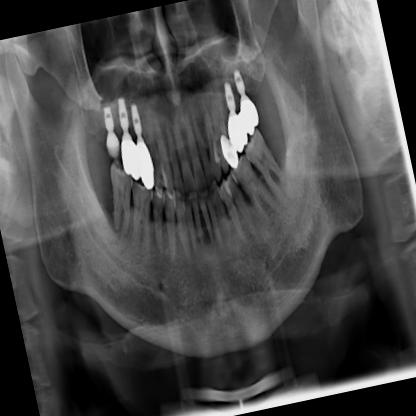Bicon: (219, 74, 240, 113), (125, 99, 146, 137), (229, 63, 250, 99), (99, 100, 118, 138), (114, 94, 132, 130)
